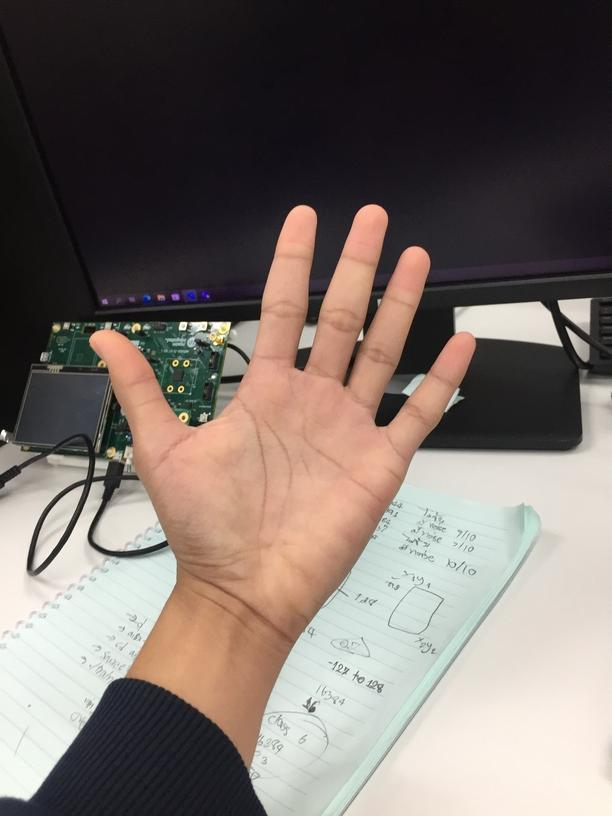hand: (92, 204, 481, 625)
